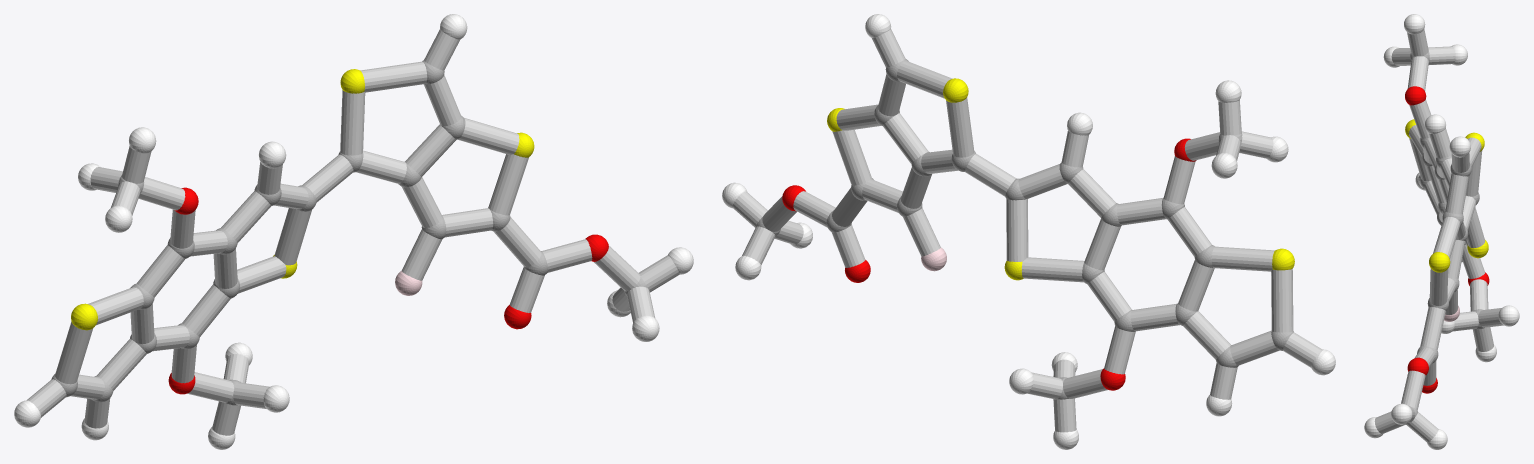
Rendered from color.glb.
3 views of the same model, side by side, from view 1: azimuth 30°, elevation 25°; view 2: azimuth 150°, elevation 25°; view 3: azimuth 270°, elevation 25° (orthographic). The views are drawn at different scales.
Visible parts, largest first — view 1: grp15205, grp8689, grp1, grp7241, grp13395; view 2: grp15205, grp8689, grp1, grp7241, grp13395; view 3: grp15205, grp8689, grp1, grp13395, grp7241.
Boxes of the visible parts, bbox=[...] form: grp15205: bbox=[27, 29, 679, 435]; grp8689: bbox=[14, 14, 693, 449]; grp1: bbox=[51, 60, 647, 405]; grp7241: bbox=[71, 69, 534, 330]; grp13395: bbox=[168, 187, 608, 394]; grp15205: bbox=[732, 29, 1321, 432]; grp8689: bbox=[722, 14, 1335, 449]; grp1: bbox=[756, 58, 1293, 399]; grp7241: bbox=[827, 78, 1294, 280]; grp13395: bbox=[782, 138, 1196, 390]; grp15205: bbox=[1374, 29, 1503, 442]; grp8689: bbox=[1364, 14, 1519, 449]; grp1: bbox=[1405, 51, 1484, 424]; grp13395: bbox=[1405, 86, 1489, 393]; grp7241: bbox=[1405, 119, 1488, 272].
Size of the model in its own units: 16.64 by 9.47 by 4.36.
